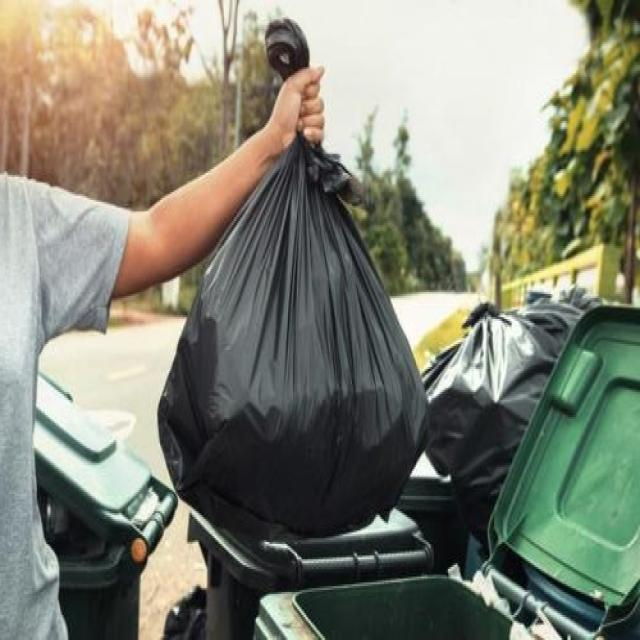Vinyl: (156, 0, 433, 540), (420, 285, 570, 508)
